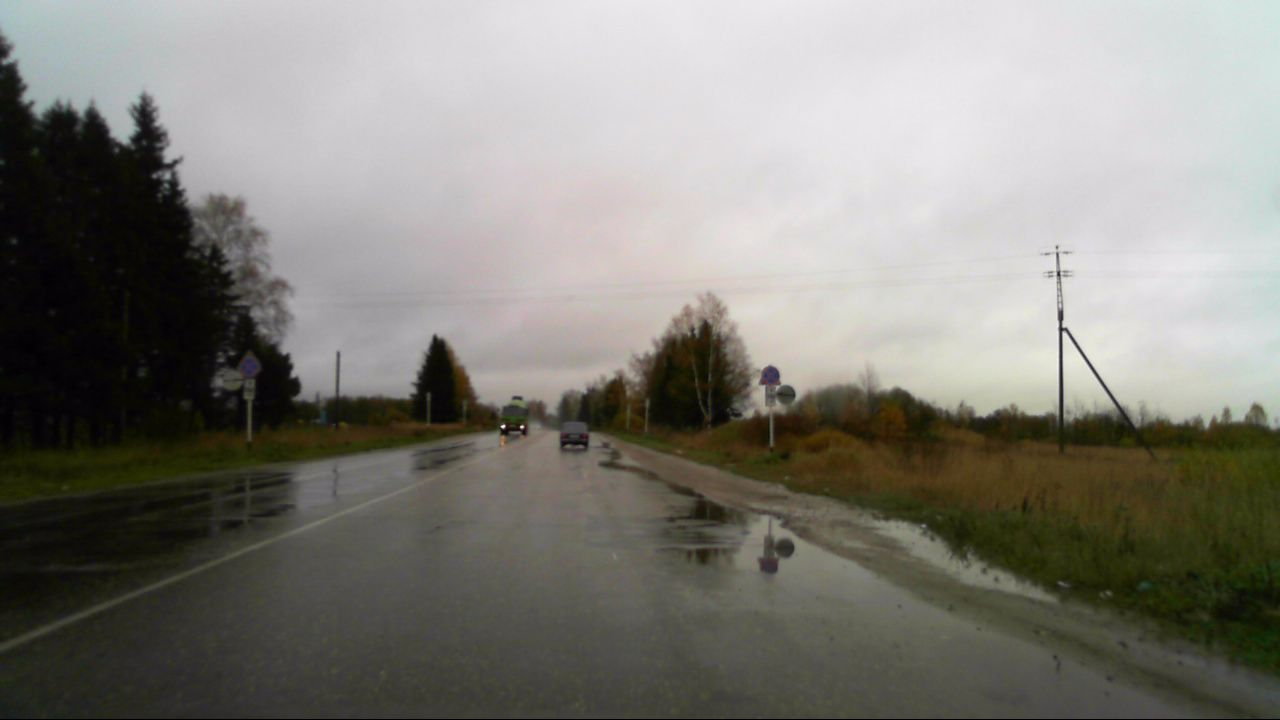No Parking: (240, 355, 261, 376)
